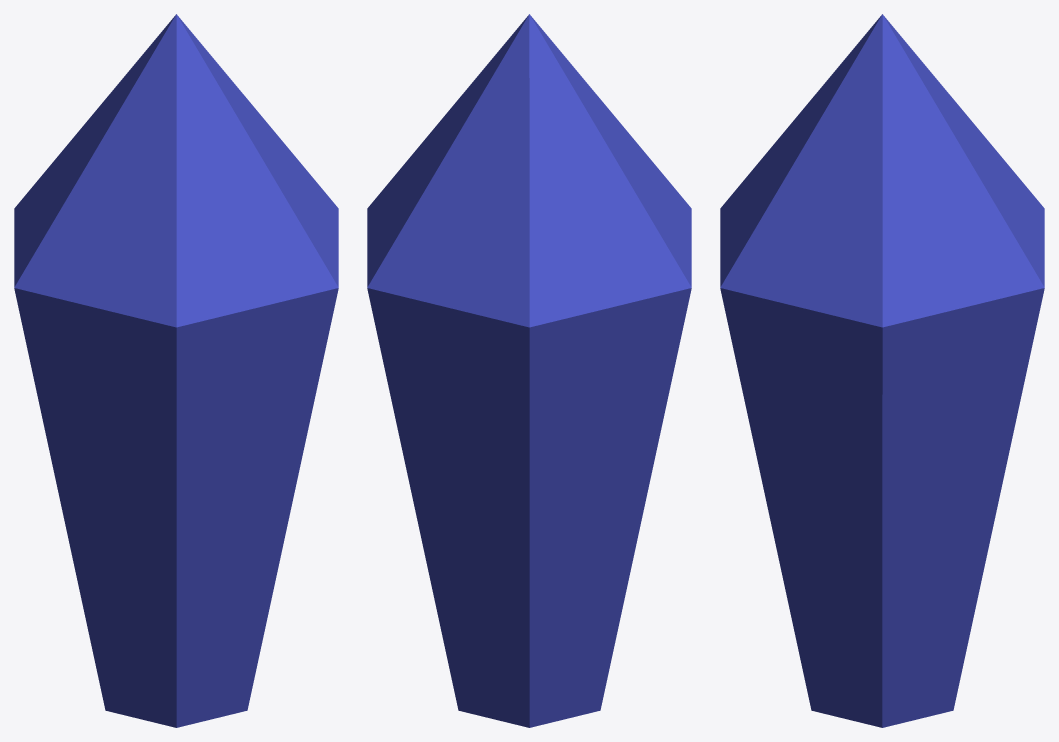
File: Gem_04.fbx
The picture shows the model from 3 angles, left to right: view 1: azimuth 30°, elevation 25°; view 2: azimuth 150°, elevation 25°; view 3: azimuth 270°, elevation 25°; orthographic projection.
Parts seen in each view (by area): view 1: Gem_04; view 2: Gem_04; view 3: Gem_04.
Part boxes in pixels (bbox=[...]): Gem_04: bbox=[14, 14, 338, 727]; Gem_04: bbox=[367, 14, 691, 727]; Gem_04: bbox=[720, 14, 1044, 727].
Bounding box in the file's own units: 0.0674 × 0.1348 × 0.0584.
